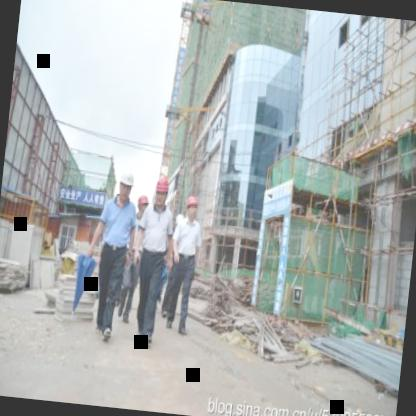helmet: (152, 172, 172, 212), (116, 167, 135, 202), (182, 192, 199, 222), (134, 192, 150, 216)
